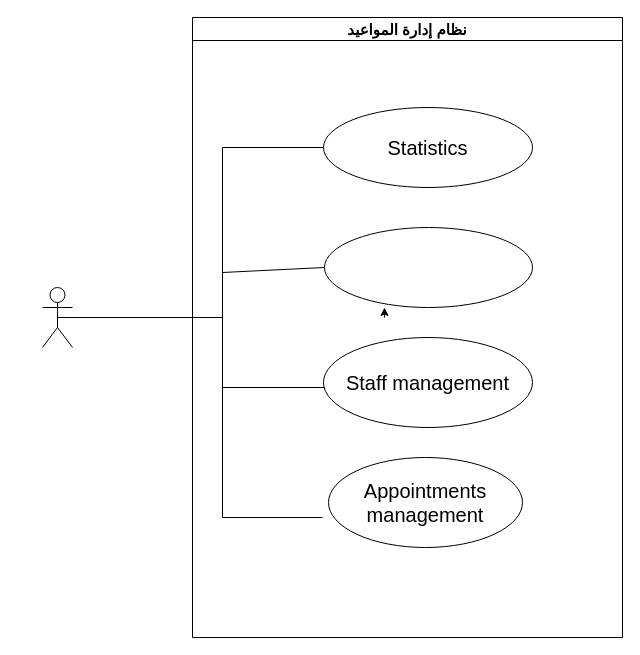
The diagram is 640 pixels wide and 655 high, and some of its shapes have lost their labels. The box of each missing label's shape, as (x1, y1, x2, y2) in pixels:
Doctors management hospital: (324, 226, 532, 308)
Hospital Admin: (42, 286, 72, 348)
